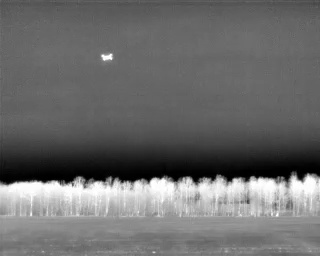DRONE: (97, 48, 118, 67)
